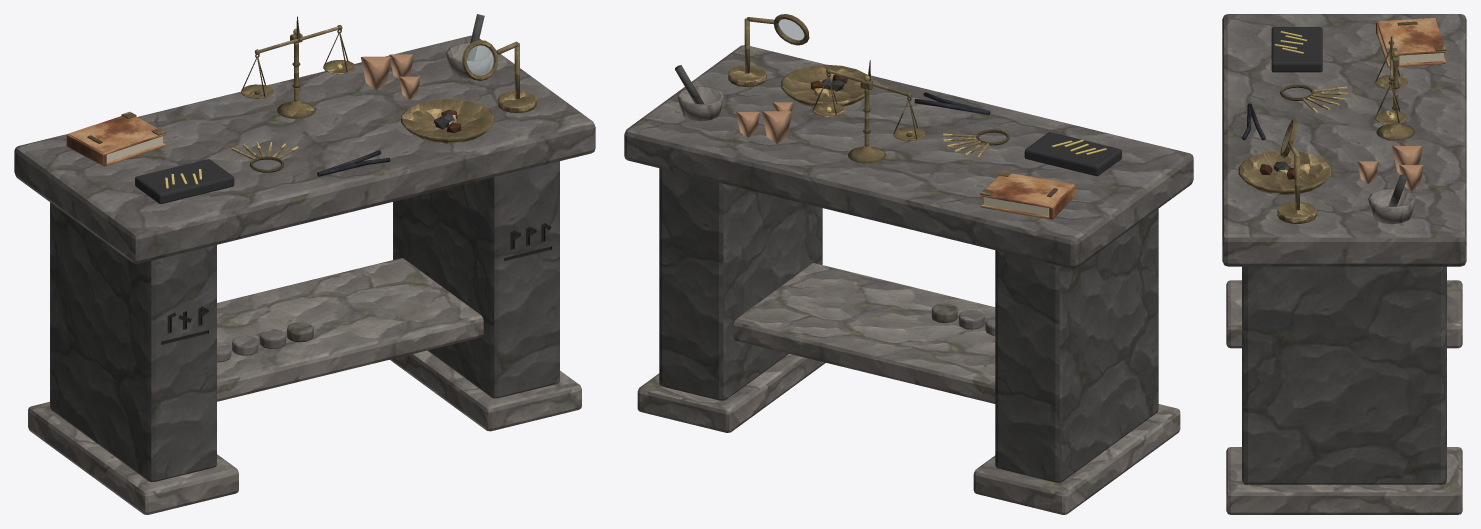
File: bv_assay_bench.glb
The picture shows the model from 3 angles, left to right: view 1: azimuth 30°, elevation 25°; view 2: azimuth 150°, elevation 25°; view 3: azimuth 270°, elevation 25°; orthographic projection. The views are drawn at different scales.
Parts seen in each view (by area): view 1: model; view 2: model; view 3: model.
Part boxes in pixels (bbox=[...]): model: bbox=[14, 14, 595, 514]; model: bbox=[624, 14, 1193, 514]; model: bbox=[1222, 14, 1466, 514].
Bounding box in the file's own units: 1.35 × 1.07 × 0.62.
25 materials, 12 textured.
